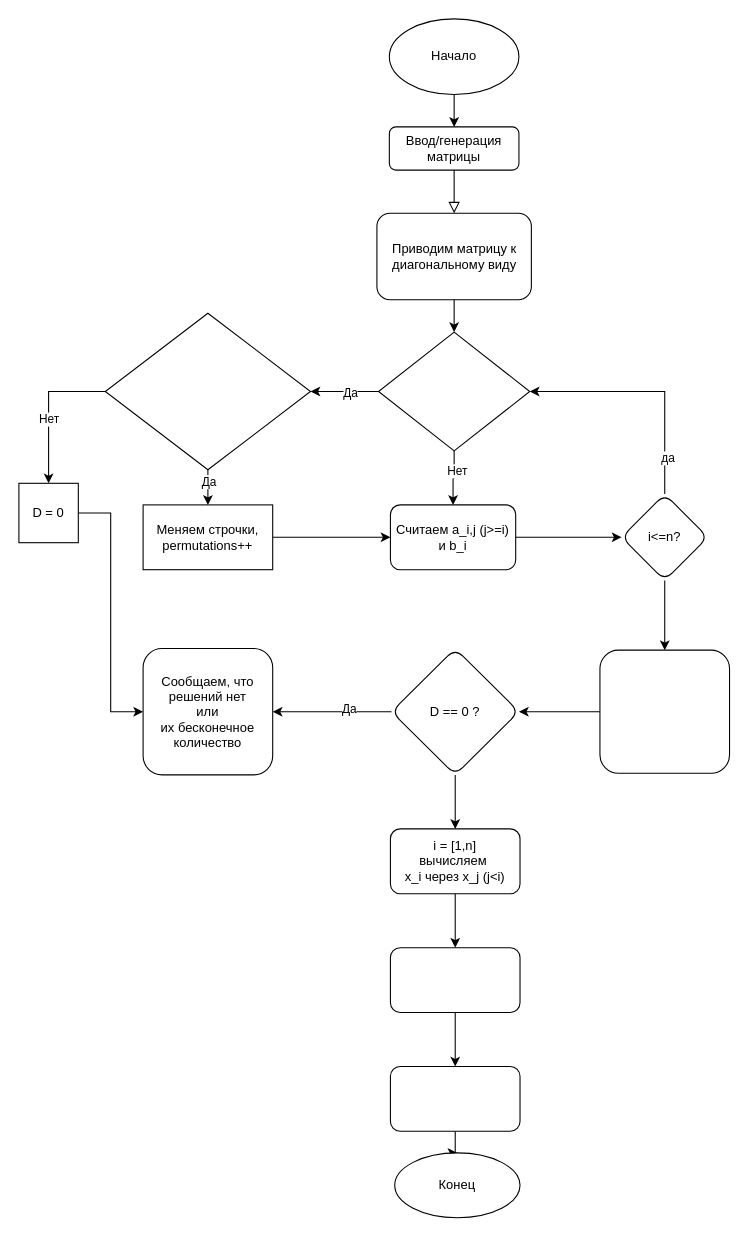
Some shapes in this 748 by 1237 pixel diagram are drawn without their labels. Each missing label, with the box of its shape:
i = [1,n] a_i,j (j<i) = 0 a_i,i=0?: (377, 331, 530, 451)
Вывод данных: (389, 1065, 520, 1131)
Вычисляем r_i: (389, 947, 520, 1013)
Находим строчку, с которой можно сделать swap?: (104, 312, 310, 470)
Считаем дискриминант D D = a_1,1 * a_2,2 * ... ... * a_n,n: (599, 649, 730, 773)
